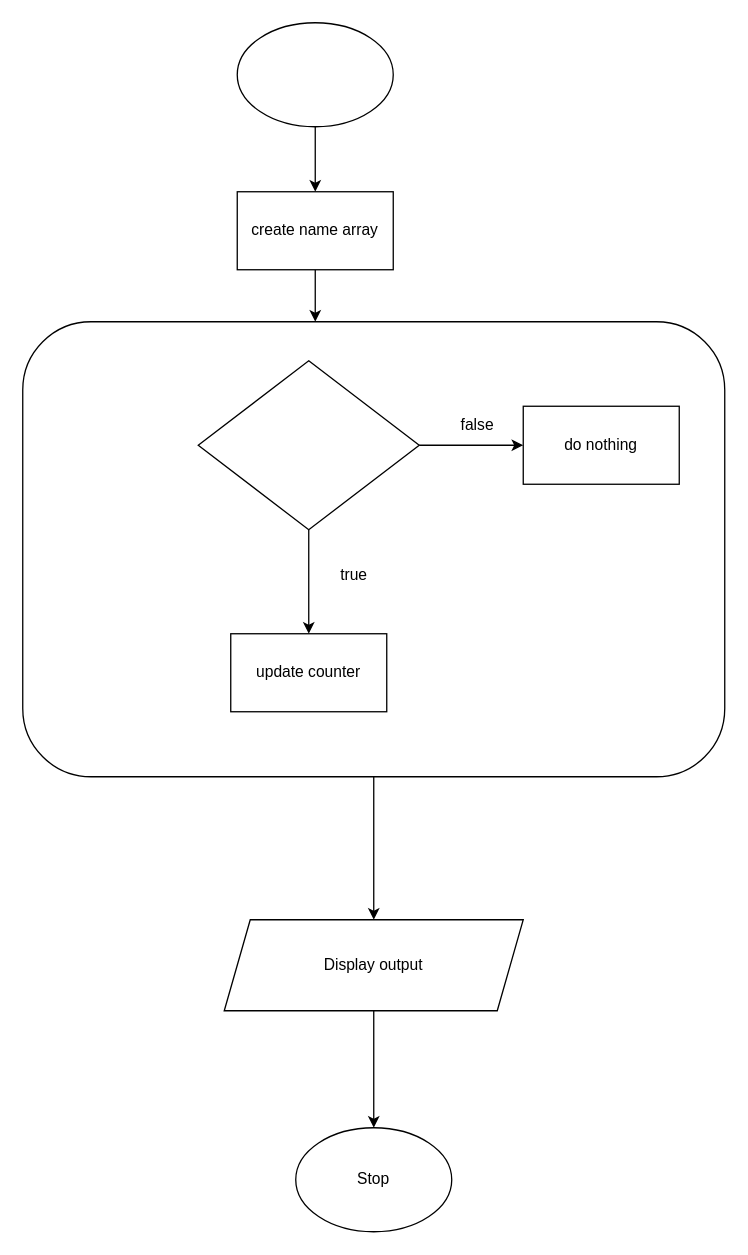
This 748x1255 diagram has some shape labels left out. The shapes that lost their labels are listed below. From the top down, each one's box as (x1, y1, x2, y2) in pixels, then its label:
(236, 21, 393, 127): Start
(197, 359, 419, 530): For each name that starts with "A"
